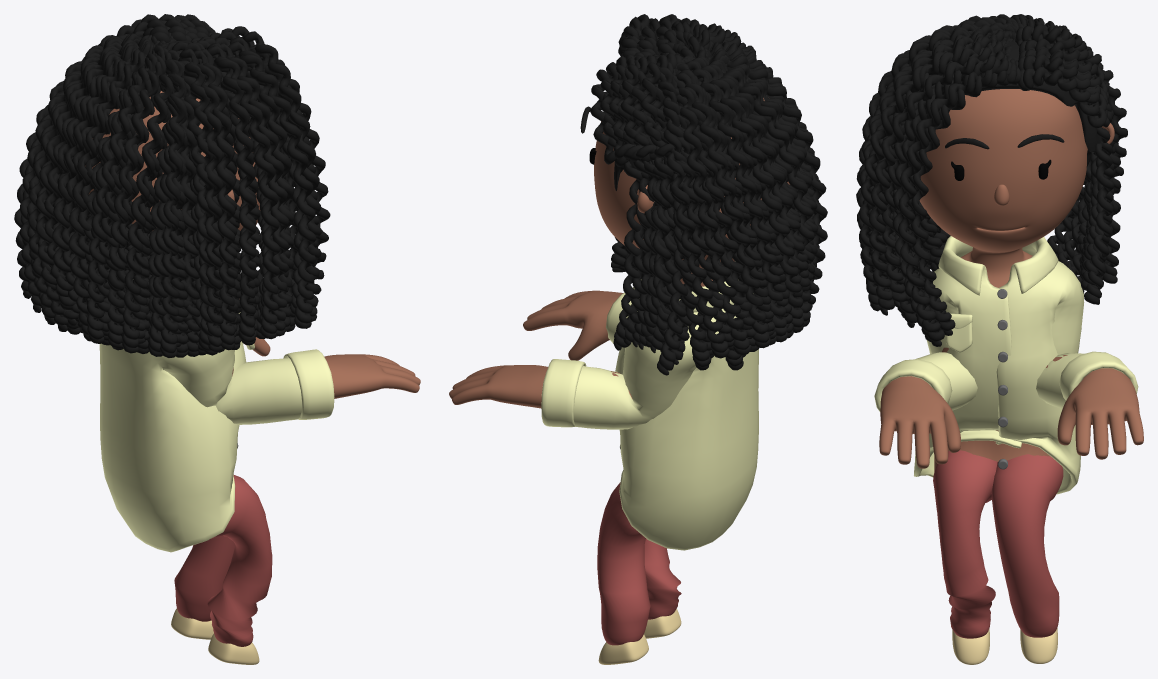
The model's file is webdesigner.gltf.
The picture shows the model from 3 angles, left to right: view 1: azimuth 30°, elevation 25°; view 2: azimuth 150°, elevation 25°; view 3: azimuth 270°, elevation 25°; orthographic projection. The views are drawn at different scales.
Visible parts, largest first — view 1: Hair13, Shirt.002, Cube.033, Cube.032, body.004, Cube.034, head, Cube.035; view 2: Hair13, Shirt.002, body.004, Cube.032, head, Cube.033, Cube.035, Cube.034; view 3: Hair13, Shirt.002, head, body.004, Cube.032, Cube.033, Cube.034, Cube.035.
Boxes of the visible parts, x1,y1,x2,y2 form: Hair13: (14, 14, 330, 357); Shirt.002: (99, 312, 334, 552); Cube.033: (207, 475, 272, 646); Cube.032: (174, 535, 234, 621); body.004: (232, 337, 420, 398); Cube.034: (208, 634, 259, 664); head: (85, 91, 260, 230); Cube.035: (171, 608, 213, 639); Hair13: (580, 14, 827, 375); Shirt.002: (541, 261, 758, 550); body.004: (449, 290, 649, 408); Cube.032: (597, 482, 650, 645); head: (594, 98, 789, 286); Cube.033: (644, 538, 681, 619); Cube.035: (598, 634, 648, 664); Cube.034: (644, 609, 681, 638); Hair13: (856, 14, 1127, 346); Shirt.002: (874, 236, 1138, 494); head: (919, 89, 1114, 287); body.004: (879, 347, 1143, 471); Cube.032: (991, 454, 1063, 637); Cube.033: (933, 450, 997, 638); Cube.034: (952, 628, 989, 664); Cube.035: (1020, 628, 1057, 663).
Size of the model in its own units: 7.2 by 13.17 by 5.63.
